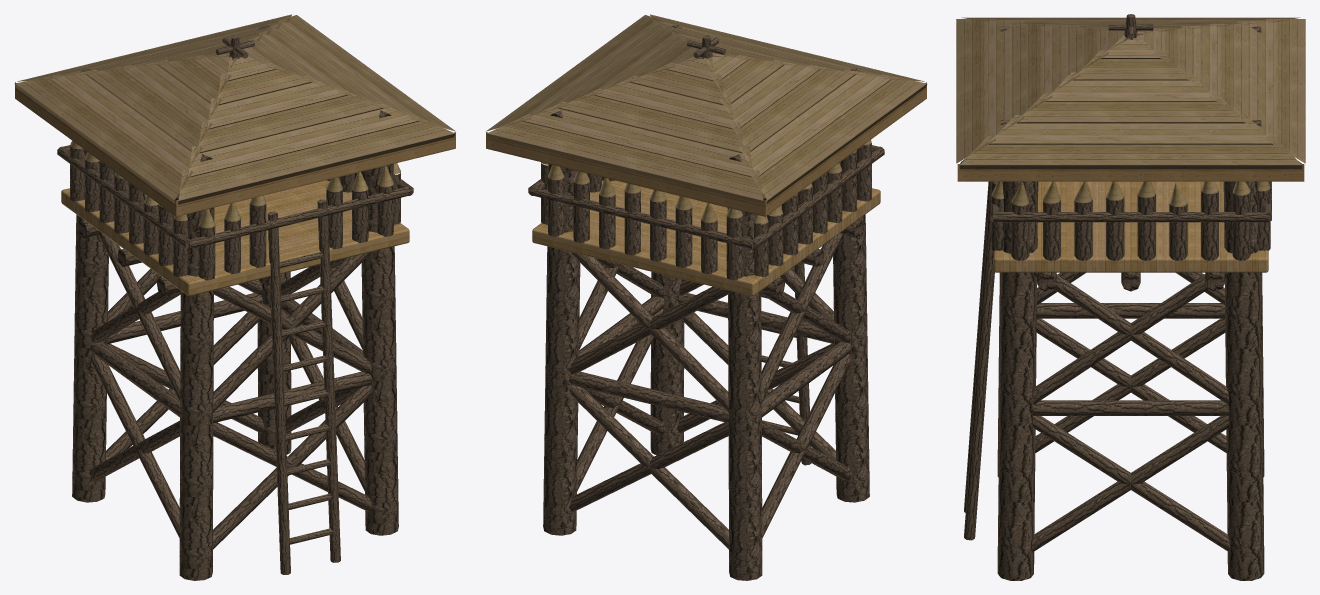
Rendered from watchtower_wood.glb.
3 renders of one model, left to right at view 1: azimuth 30°, elevation 25°; view 2: azimuth 150°, elevation 25°; view 3: azimuth 270°, elevation 25°, orthographic. The views are drawn at different scales.
Visible parts, largest first — view 1: prop; view 2: prop; view 3: prop.
Part boxes in pixels (x1,y1,x2,y2): prop: (14, 14, 455, 580); prop: (486, 14, 927, 580); prop: (956, 14, 1305, 580).
Bounding box in the file's own units: 2.49 × 4 × 2.49.
Materials: 5 (5 with a texture image).
